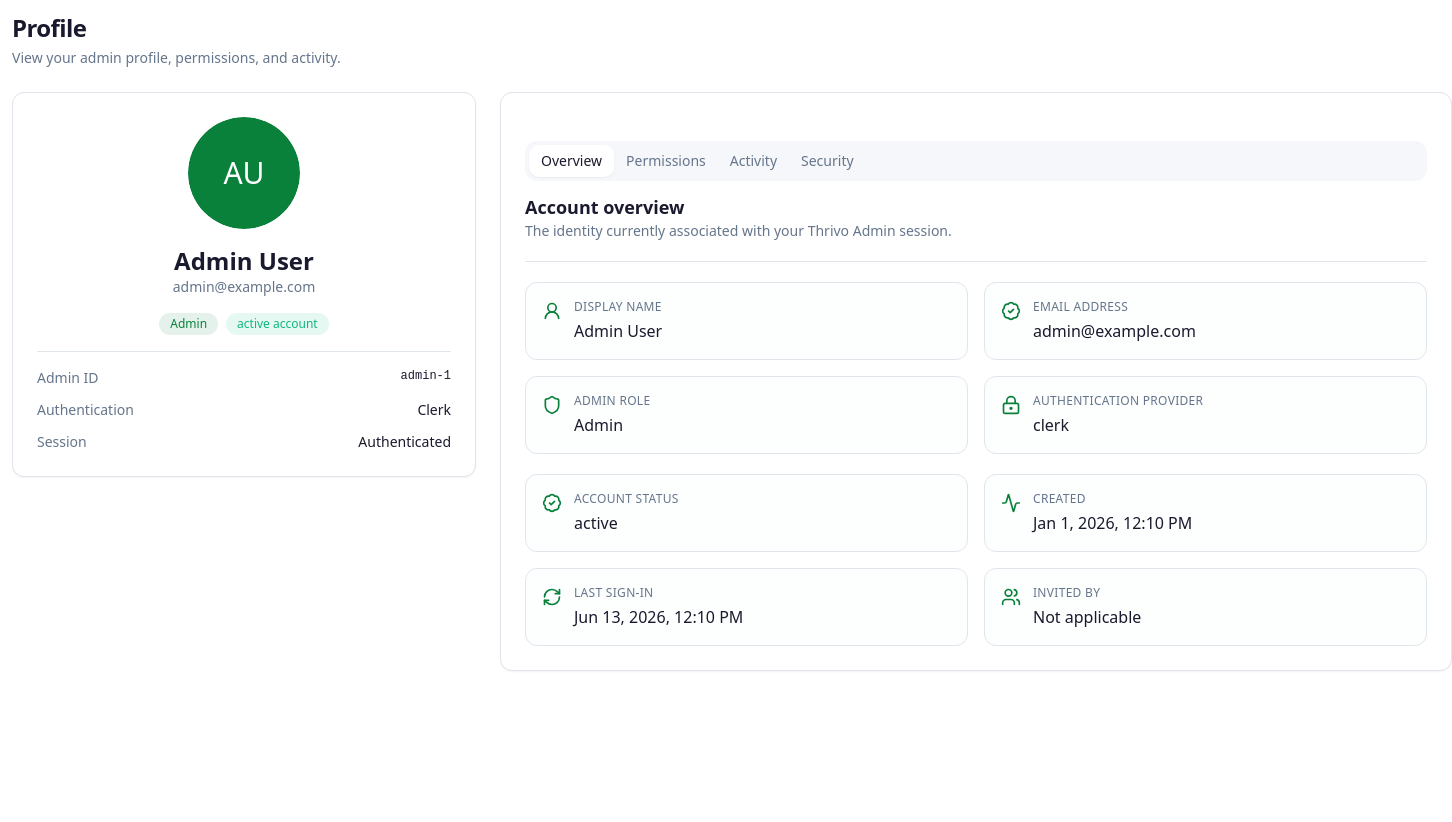
Test: AdminProfileSection › renders recent activity through the server-scoped profile endpoint
The width and height of the screenshot is (1452, 822).
Press the mouse on the tab "Activity" at (753,161), box [718,145,789,177]
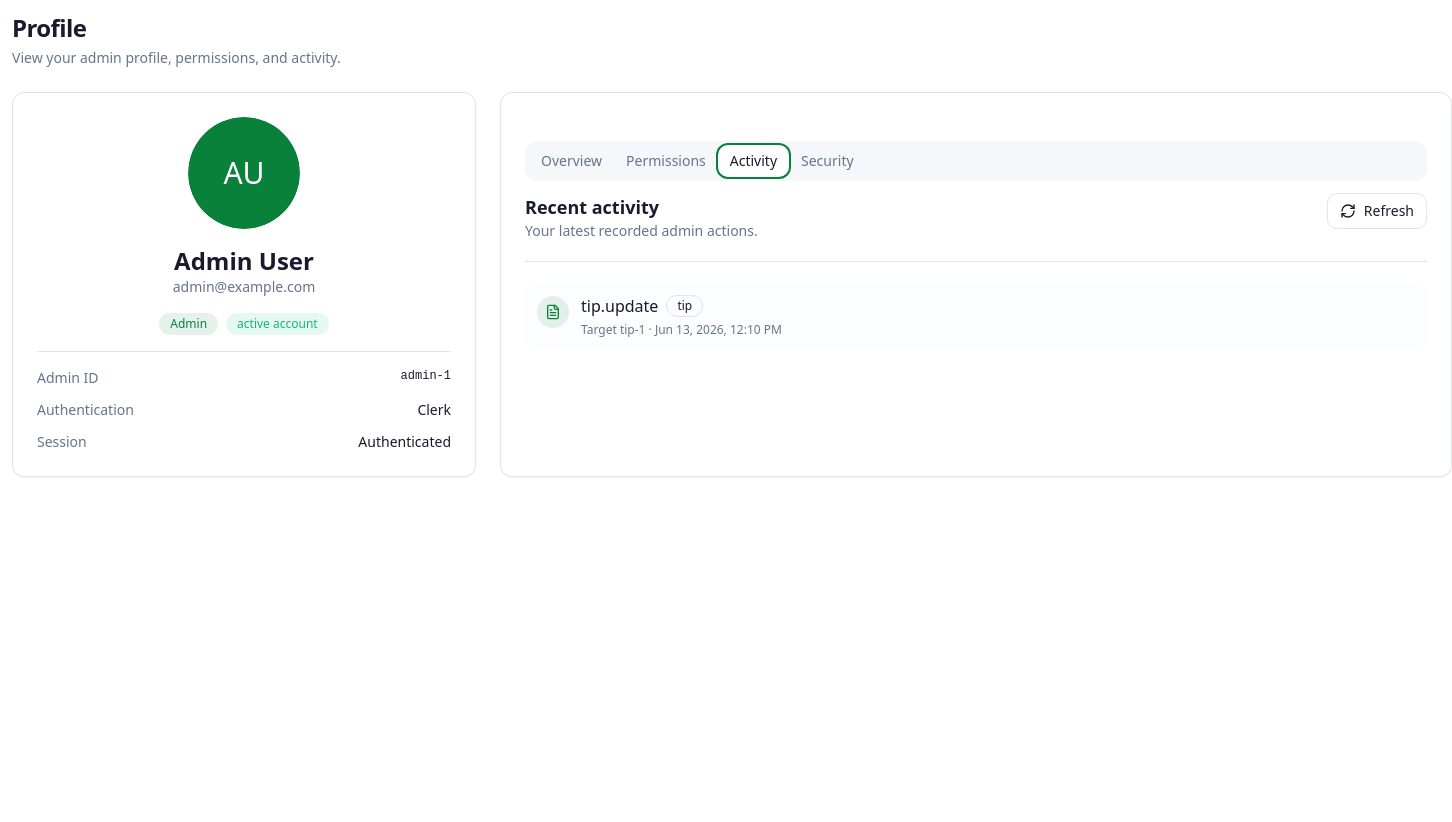
Expected: the text "tip.update" is shown, [581,294,658,318]
Expected: the text "Target tip-1 · Jun 13, 2026, 12:10 PM" is shown, [581,321,782,338]
